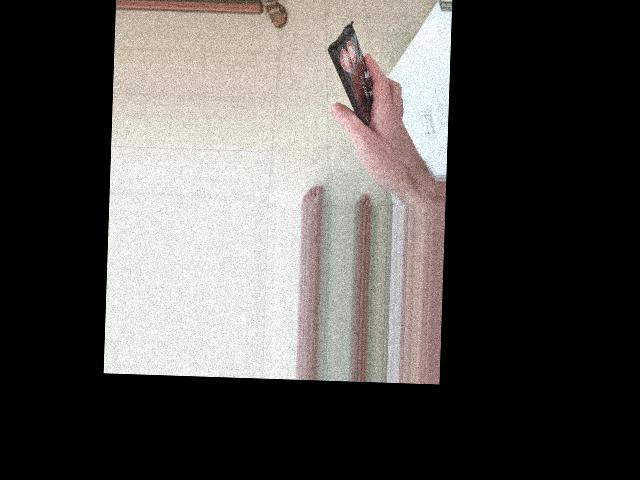chocolate: (327, 20, 387, 134)
